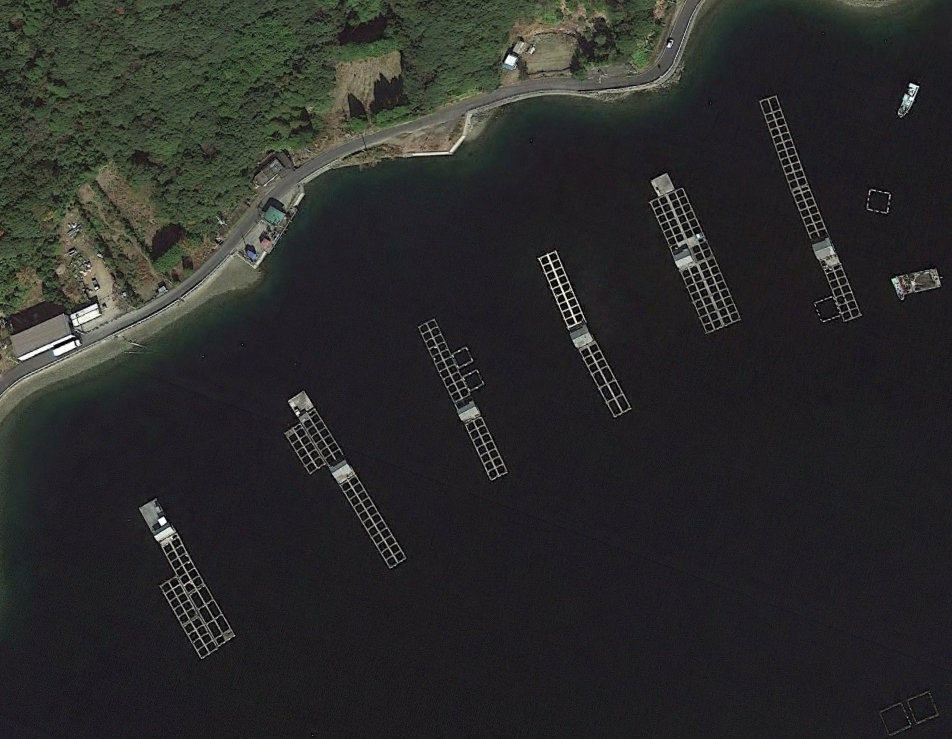house: (5, 309, 77, 357), (238, 151, 290, 190), (60, 293, 114, 329), (35, 331, 92, 362), (255, 199, 298, 235), (497, 42, 523, 72)
platform: (890, 263, 944, 301), (135, 496, 177, 540), (285, 387, 318, 417), (648, 169, 677, 200), (569, 323, 596, 350), (668, 245, 697, 270), (810, 237, 837, 260), (455, 401, 483, 422), (330, 460, 355, 483)
ship: (895, 78, 925, 122)
square: (869, 695, 915, 739), (901, 685, 944, 728), (861, 185, 896, 218), (809, 291, 842, 326), (449, 343, 478, 368), (463, 366, 488, 393)
